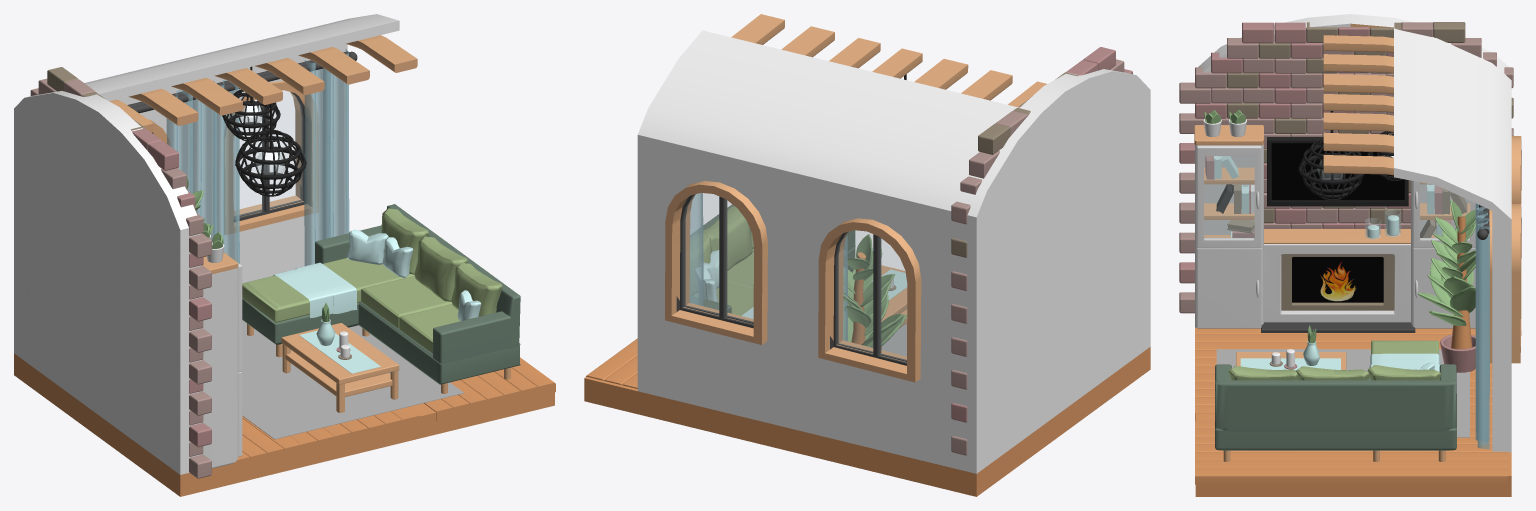
File: room living room.glb
The picture shows the model from 3 angles, left to right: view 1: azimuth 30°, elevation 25°; view 2: azimuth 150°, elevation 25°; view 3: azimuth 270°, elevation 25°; orthographic projection. The views are drawn at different scales.
Parts seen in each view (by area): view 1: Room, pCube269, polySurface5, pPlane7, pPlane6, polySurface7, pCube4, pCube1, pPlane8, pCube279, pPlane4, Blanket (+20 smaller); view 2: Room, polySurface6, polySurface7, pCube11, pPlane7, pCube249, pCube248, pCube252, pCube198, pCube10, pCube1, pCube2; view 3: Room, pCube6, pCube231, polySurface3, pCube252, pCube254, pCube4, pCube255, pPlane6, polySurface9, pCube251, polySurface4 (+63 smaller).
Part boxes in pixels (bbox=[...]): Room: bbox=[14, 14, 554, 496]; pCube269: bbox=[242, 320, 463, 439]; polySurface5: bbox=[201, 268, 237, 468]; pPlane7: bbox=[304, 60, 330, 265]; pPlane6: bbox=[323, 49, 349, 238]; polySurface7: bbox=[224, 81, 318, 234]; pCube4: bbox=[358, 301, 520, 384]; pCube1: bbox=[242, 258, 414, 322]; pPlane8: bbox=[213, 79, 239, 263]; pCube279: bbox=[433, 311, 511, 364]; pPlane4: bbox=[193, 81, 217, 240]; Blanket: bbox=[273, 262, 357, 318]; Room: bbox=[584, 14, 1150, 496]; polySurface6: bbox=[818, 218, 921, 382]; polySurface7: bbox=[665, 181, 767, 344]; pCube11: bbox=[703, 206, 752, 270]; pPlane7: bbox=[690, 193, 703, 305]; pCube249: bbox=[873, 234, 881, 356]; pCube248: bbox=[719, 196, 727, 318]; pCube252: bbox=[586, 338, 637, 380]; pCube198: bbox=[978, 123, 1010, 154]; pCube10: bbox=[690, 233, 711, 295]; pCube1: bbox=[693, 284, 753, 315]; pCube2: bbox=[727, 251, 753, 289]; Room: bbox=[1195, 14, 1511, 496]; pCube6: bbox=[1215, 380, 1456, 431]; pCube231: bbox=[1267, 137, 1408, 206]; polySurface3: bbox=[1264, 244, 1410, 322]; pCube252: bbox=[1195, 468, 1507, 484]; pCube254: bbox=[1197, 248, 1261, 328]; pCube4: bbox=[1215, 394, 1456, 450]; pCube255: bbox=[1204, 156, 1254, 239]; pPlane6: bbox=[1475, 215, 1489, 449]; polySurface9: bbox=[1197, 145, 1261, 248]; pCube251: bbox=[1195, 460, 1507, 467]; polySurface4: bbox=[1281, 254, 1394, 310].
Bounding box in the file's own units: 0.9893 × 0.8185 × 0.8208.
Materials: 25 (1 with a texture image).
